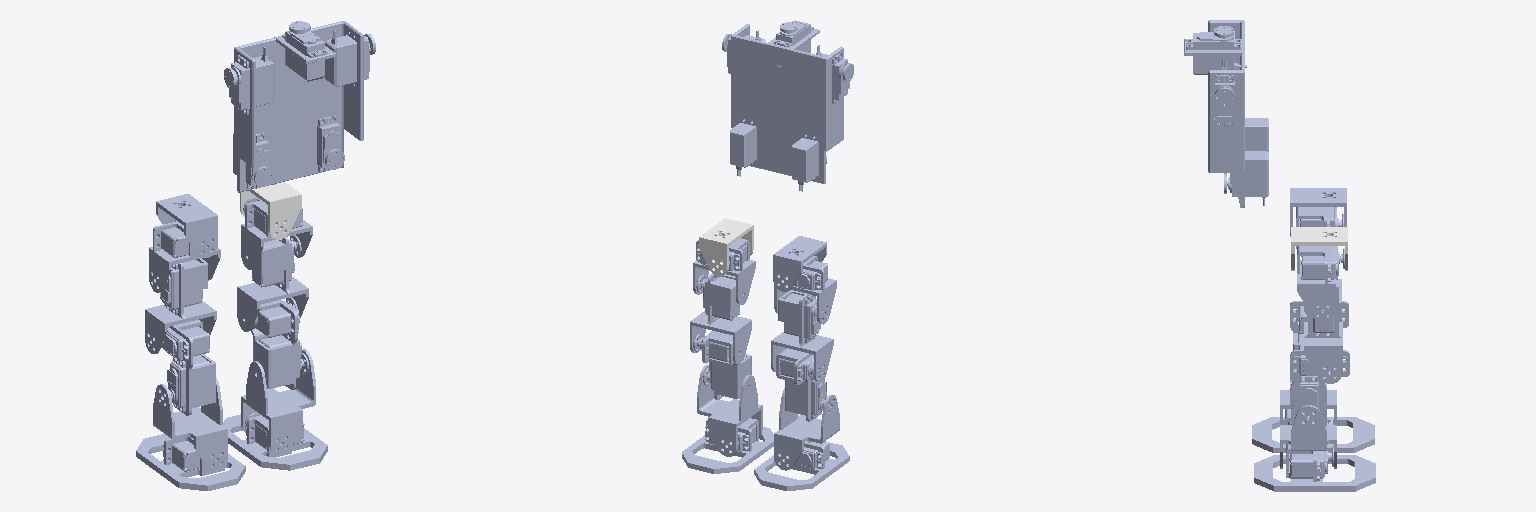
URDF robot description (test_legs_urdf):
<?xml version="1.0" encoding="utf-8" ?>
<!-- This URDF was automatically created by SolidWorks to URDF Exporter! Originally created by [author] ([email redacted]) 
     Commit Version: 1.6.0-4-g7f85cfe  Build Version: 1.6.7995.38578
     For more information, please see http://wiki.ros.org/sw_urdf_exporter -->
<robot name="test_legs_urdf">
    <!-- <link name="world"/>
    <joint name="base_joint" type="fixed">
      <parent link="world"/>
      <child link="base_link"/>
      <origin rpy="0 0 0" xyz="0.0 0.0 0.17"/>
    </joint> -->
    <link name="base_link">
        <inertial>
            <origin xyz="0.0023973 0.0026111 -0.1" rpy="0 0 0" />
            <mass value="0.37523" />
            <inertia ixx="0" ixy="0" ixz="0" iyy="0" iyz="0" izz="0" />
        </inertial>
        <visual>
            <origin xyz="0 0 0" rpy="0 0 0" />
            <geometry>
                <mesh filename="package://test_legs_urdf/meshes/base_link.STL" />
            </geometry>
            <material name="">
                <color rgba="0.79216 0.81961 0.93333 1" />
            </material>
        </visual>
        <collision>
            <origin xyz="0 0 0" rpy="0 0 0" />
            <geometry>
                <mesh filename="package://test_legs_urdf/meshes/base_link.STL" />
            </geometry>
        </collision>
    </link>
    <link name="RLeg">
        <inertial>
            <origin xyz="-0.010304 0.00087314 0.0095798" rpy="0 0 0" />
            <mass value="0.013241" />
            <inertia ixx="0" ixy="0" ixz="0" iyy="0" iyz="0" izz="0" />
        </inertial>
        <visual>
            <origin xyz="0 0 0" rpy="0 0 0" />
            <geometry>
                <mesh filename="package://test_legs_urdf/meshes/RLeg.STL" />
            </geometry>
            <material name="">
                <color rgba="0.79216 0.81961 0.93333 1" />
            </material>
        </visual>
        <collision>
            <origin xyz="0 0 0" rpy="0 0 0" />
            <geometry>
                <mesh filename="package://test_legs_urdf/meshes/RLeg.STL" />
            </geometry>
        </collision>
    </link>
    <joint name="RHip_yaw" type="revolute">
        <origin xyz="-0.042665 -0.0164 -0.077419" rpy="3.1416 0 1.5708" />
        <parent link="base_link" />
        <child link="RLeg" />
        <axis xyz="0 0 1" />
        <limit lower="-1.57" upper="1.57" effort="0.3" velocity="5" />
    </joint>
    <link name="RHip">
        <inertial>
            <origin xyz="0.0091581 -0.011371 0.0048311" rpy="0 0 0" />
            <mass value="0.049473" />
            <inertia ixx="0" ixy="0" ixz="0" iyy="0" iyz="0" izz="0" />
        </inertial>
        <visual>
            <origin xyz="0 0 0" rpy="0 0 0" />
            <geometry>
                <mesh filename="package://test_legs_urdf/meshes/RHip.STL" />
            </geometry>
            <material name="">
                <color rgba="0.79216 0.81961 0.93333 1" />
            </material>
        </visual>
        <collision>
            <origin xyz="0 0 0" rpy="0 0 0" />
            <geometry>
                <mesh filename="package://test_legs_urdf/meshes/RHip.STL" />
            </geometry>
        </collision>
    </link>
    <joint name="RHip_roll" type="revolute">
        <origin xyz="0 0.0055 0.029" rpy="0 0 -1.5708" />
        <parent link="RLeg" />
        <child link="RHip" />
        <axis xyz="0 -1 0" />
        <limit lower="-1.57" upper="1.57" effort="0.3" velocity="5" />
    </joint>
    <link name="RFemur">
        <inertial>
            <origin xyz="0.0089374 0.00056334 0.018422" rpy="0 0 0" />
            <mass value="0.053764" />
            <inertia ixx="0" ixy="0" ixz="0" iyy="0" iyz="0" izz="0" />
        </inertial>
        <visual>
            <origin xyz="0 0 0" rpy="0 0 0" />
            <geometry>
                <mesh filename="package://test_legs_urdf/meshes/RFemur.STL" />
            </geometry>
            <material name="">
                <color rgba="0.79216 0.81961 0.93333 1" />
            </material>
        </visual>
        <collision>
            <origin xyz="0 0 0" rpy="0 0 0" />
            <geometry>
                <mesh filename="package://test_legs_urdf/meshes/RFemur.STL" />
            </geometry>
        </collision>
    </link>
    <joint name="RHip_pitch" type="revolute">
        <origin xyz="0 -0.0066192 0.039" rpy="0 0 0" />
        <parent link="RHip" />
        <child link="RFemur" />
        <axis xyz="-1 0 0" />
        <limit lower="-1.57" upper="1.57" effort="0.3" velocity="5" />
    </joint>
    <link name="RTibia">
        <inertial>
            <origin xyz="-0.01514 -0.021484 -0.0081987" rpy="0 0 0" />
            <mass value="0.081897" />
            <inertia ixx="0" ixy="0" ixz="0" iyy="0" iyz="0" izz="0" />
        </inertial>
        <visual>
            <origin xyz="0 0 0" rpy="0 0 0" />
            <geometry>
                <mesh filename="package://test_legs_urdf/meshes/RTibia.STL" />
            </geometry>
            <material name="">
                <color rgba="0.79216 0.81961 0.93333 1" />
            </material>
        </visual>
        <collision>
            <origin xyz="0 0 0" rpy="0 0 0" />
            <geometry>
                <mesh filename="package://test_legs_urdf/meshes/RTibia.STL" />
            </geometry>
        </collision>
    </link>
    <joint name="RKnee_pitch" type="revolute">
        <origin xyz="0 0.00725 0.0664" rpy="-1.5708 0 1.5708" />
        <parent link="RFemur" />
        <child link="RTibia" />
        <axis xyz="0 0 1" />
        <limit lower="-1.57" upper="1.57" effort="0.3" velocity="5" />
    </joint>
    <link name="RAnkle">
        <inertial>
            <origin xyz="2.1083E-11 -0.0065876 0.03259" rpy="0 0 0" />
            <mass value="0.024453" />
            <inertia ixx="0" ixy="0" ixz="0" iyy="0" iyz="0" izz="0" />
        </inertial>
        <visual>
            <origin xyz="0 0 0" rpy="0 0 0" />
            <geometry>
                <mesh filename="package://test_legs_urdf/meshes/RAnkle.STL" />
            </geometry>
            <material name="">
                <color rgba="0.79216 0.81961 0.93333 1" />
            </material>
        </visual>
        <collision>
            <origin xyz="0 0 0" rpy="0 0 0" />
            <geometry>
                <mesh filename="package://test_legs_urdf/meshes/RAnkle.STL" />
            </geometry>
        </collision>
    </link>
    <joint name="RAnkle_pitch" type="revolute">
        <origin xyz="-0.0209 -0.04901 0" rpy="1.5708 0 0" />
        <parent link="RTibia" />
        <child link="RAnkle" />
        <axis xyz="0 1 0" />
        <limit lower="-1.57" upper="1.57" effort="0.3" velocity="5" />
    </joint>
    <link name="RFoot">
        <inertial>
            <origin xyz="0.0 0.01 0.005" rpy="0 0 0" />
            <mass value="0.068473" />
            <inertia ixx="0" ixy="0" ixz="0" iyy="0" iyz="0" izz="0" />
        </inertial>
        <visual>
            <origin xyz="-0.125 0 0.01" rpy="0 0 0" />
            <geometry>
                <mesh filename="package://test_legs_urdf/meshes/RFoot.STL" />
            </geometry>
            <material name="">
                <color rgba="0.79216 0.81961 0.93333 1" />
            </material>
        </visual>
        <collision>
            <origin xyz="-0.125 0 0.01" rpy="0 0 0" />
            <geometry>
                <mesh filename="package://test_legs_urdf/meshes/RFoot.STL" />
            </geometry>
        </collision>
    </link>
    <joint name="RAnkle_roll" type="revolute">
        <origin xyz="0.0 0.0051692 0.0626" rpy="0 0 3.1416" />
        <parent link="RAnkle" />
        <child link="RFoot" />
        <axis xyz="1 0 0" />
        <limit lower="-1.57" upper="1.57" effort="0.3" velocity="5" />
    </joint>
    <link name="LLeg">
        <inertial>
            <origin xyz="0 0 0" rpy="0 0 0" />
            <mass value="0.013241" />
            <inertia ixx="0" ixy="0" ixz="0" iyy="0" iyz="0" izz="0" />
        </inertial>
        <visual>
            <origin xyz="0 0 0" rpy="0 0 0" />
            <geometry>
                <mesh filename="package://test_legs_urdf/meshes/LLeg.STL" />
            </geometry>
            <material name="">
                <color rgba="1 1 1 1" />
            </material>
        </visual>
        <collision>
            <origin xyz="0 0 0" rpy="0 0 0" />
            <geometry>
                <mesh filename="package://test_legs_urdf/meshes/LLeg.STL" />
            </geometry>
        </collision>
    </link>
    <joint name="LHip_yaw" type="revolute">
        <origin xyz="0.048335 -0.0153 -0.077419" rpy="3.1416 0 -1.5708" />
        <parent link="base_link" />
        <child link="LLeg" />
        <axis xyz="0 0 1" />
        <limit lower="-1.57" upper="1.57" effort="0.3" velocity="5" />
    </joint>
    <link name="LHip">
        <inertial>
            <origin xyz="-0.0048311 0.0090773 -0.011371" rpy="0 0 0" />
            <mass value="0.049473" />
            <inertia ixx="0" ixy="0" ixz="0" iyy="0" iyz="0" izz="0" />
        </inertial>
        <visual>
            <origin xyz="0 0 0" rpy="0 0 0" />
            <geometry>
                <mesh filename="package://test_legs_urdf/meshes/LHip.STL" />
            </geometry>
            <material name="">
                <color rgba="0.79216 0.81961 0.93333 1" />
            </material>
        </visual>
        <collision>
            <origin xyz="0 0 0" rpy="0 0 0" />
            <geometry>
                <mesh filename="package://test_legs_urdf/meshes/LHip.STL" />
            </geometry>
        </collision>
    </link>
    <joint name="LHip_roll" type="revolute">
        <origin xyz="0 0.0055 0.029" rpy="3.1416 1.5708 0" />
        <parent link="LLeg" />
        <child link="LHip" />
        <axis xyz="0 0 -1" />
        <limit lower="-1.57" upper="1.57" effort="0.3" velocity="5" />
    </joint>
    <link name="LFemur">
        <inertial>
            <origin xyz="-0.00033744 -0.018648 -0.0087374" rpy="0 0 0" />
            <mass value="0.053764" />
            <inertia ixx="0" ixy="0" ixz="0" iyy="0" iyz="0" izz="0" />
        </inertial>
        <visual>
            <origin xyz="0 0 0" rpy="0 0 0" />
            <geometry>
                <mesh filename="package://test_legs_urdf/meshes/LFemur.STL" />
            </geometry>
            <material name="">
                <color rgba="0.79216 0.81961 0.93333 1" />
            </material>
        </visual>
        <collision>
            <origin xyz="0 0 0" rpy="0 0 0" />
            <geometry>
                <mesh filename="package://test_legs_urdf/meshes/LFemur.STL" />
            </geometry>
        </collision>
    </link>
    <joint name="LHip_pitch" type="revolute">
        <origin xyz="-0.039 0 -0.0066192" rpy="1.5708 1.5708 0" />
        <parent link="LHip" />
        <child link="LFemur" />
        <axis xyz="0 0 1" />
        <limit lower="-1.57" upper="1.57" effort="0.3" velocity="5" />
    </joint>
    <link name="LTibia">
        <inertial>
            <origin xyz="-0.021252 0.015102 0.0079987" rpy="0 0 0" />
            <mass value="0.081897" />
            <inertia ixx="0" ixy="0" ixz="0" iyy="0" iyz="0" izz="0" />
        </inertial>
        <visual>
            <origin xyz="0 0 0" rpy="0 0 0" />
            <geometry>
                <mesh filename="package://test_legs_urdf/meshes/LTibia.STL" />
            </geometry>
            <material name="">
                <color rgba="0.79216 0.81961 0.93333 1" />
            </material>
        </visual>
        <collision>
            <origin xyz="0 0 0" rpy="0 0 0" />
            <geometry>
                <mesh filename="package://test_legs_urdf/meshes/LTibia.STL" />
            </geometry>
        </collision>
    </link>
    <joint name="LKnee_pitch" type="revolute">
        <origin xyz="-0.00675 -0.0669 0" rpy="-3.1416 0 1.5708" />
        <parent link="LFemur" />
        <child link="LTibia" />
        <axis xyz="0 0 -1" />
        <limit lower="-1.57" upper="1.57" effort="0.3" velocity="5" />
    </joint>
    <link name="LAnkle">
        <inertial>
            <origin xyz="-2.1083E-11 -0.0063876 0.03259" rpy="0 0 0" />
            <mass value="0.024453" />
            <inertia ixx="0" ixy="0" ixz="0" iyy="0" iyz="0" izz="0" />
        </inertial>
        <visual>
            <origin xyz="0 0 0" rpy="0 0 0" />
            <geometry>
                <mesh filename="package://test_legs_urdf/meshes/LAnkle.STL" />
            </geometry>
            <material name="">
                <color rgba="0.79216 0.81961 0.93333 1" />
            </material>
        </visual>
        <collision>
            <origin xyz="0 0 0" rpy="0 0 0" />
            <geometry>
                <mesh filename="package://test_legs_urdf/meshes/LAnkle.STL" />
            </geometry>
        </collision>
    </link>
    <joint name="LAnkle_pitch" type="revolute">
        <origin xyz="-0.04856 0.02095 0" rpy="-1.5708 0 1.5708" />
        <parent link="LTibia" />
        <child link="LAnkle" />
        <axis xyz="0 1 0" />
        <limit lower="-1.57" upper="1.57" effort="0.3" velocity="5" />
    </joint>
    <link name="LFoot">
        <inertial>
            <origin xyz="0.00088259 0.0091453 0.0054704" rpy="0 0 0" />
            <mass value="0.068473" />
            <inertia ixx="0" ixy="0" ixz="0" iyy="0" iyz="0" izz="0" />
        </inertial>
        <visual>
            <origin xyz="0 0 0" rpy="0 0 0" />
            <geometry>
                <mesh filename="package://test_legs_urdf/meshes/LFoot.STL" />
            </geometry>
            <material name="">
                <color rgba="0.79216 0.81961 0.93333 1" />
            </material>
        </visual>
        <collision>
            <origin xyz="0 0 0" rpy="0 0 0" />
            <geometry>
                <mesh filename="package://test_legs_urdf/meshes/LFoot.STL" />
            </geometry>
        </collision>
    </link>
    <joint name="LAnkle_roll" type="revolute">
        <origin xyz="0 0.0049192 0.062486" rpy="0 0 3.1416" />
        <parent link="LAnkle" />
        <child link="LFoot" />
        <axis xyz="-1 0 0" />
        <limit lower="-1.57" upper="1.57" effort="0.3" velocity="5" />
    </joint>
    <!-- 
  Adding actuators for every joint
   Replace the “link_n” part with the name of child link of the joint and “joint_n” with the exact joint name for which you are writing this transmission tag. 
   The transmission and actuator names can be defined anything you want. 
   But the joint name must be the exact name of the joint.
  <transmission name="link_n_trans">
  <type>transmission_interface/SimpleTransmission</type>
  <joint name="joint_n">
  <hardwareInterface>hardware_interface/PositionJointInterface</hardwareInterface></joint>
  <actuator name="link_n_motor">
  <hardwareInterface>hardware_interface/PositionJointInterface</hardwareInterface> <mechanicalReduction>1</mechanicalReduction>
  </actuator>
  </transmission>
     -->
    <transmission name="LLeg_trans">
        <type>transmission_interface/SimpleTransmission</type>
        <joint name="LHip_yaw">
            <hardwareInterface>hardware_interface/PositionJointInterface</hardwareInterface>
        </joint>
        <actuator name="LHip_yaw_motor">
            <hardwareInterface>hardware_interface/PositionJointInterface</hardwareInterface>
            <mechanicalReduction>1</mechanicalReduction>
        </actuator>
    </transmission>
    <transmission name="LHip_trans">
        <type>transmission_interface/SimpleTransmission</type>
        <joint name="LHip_roll">
            <hardwareInterface>hardware_interface/PositionJointInterface</hardwareInterface>
        </joint>
        <actuator name="LHip_roll_motor">
            <hardwareInterface>hardware_interface/PositionJointInterface</hardwareInterface>
            <mechanicalReduction>1</mechanicalReduction>
        </actuator>
    </transmission>
    <transmission name="LFemur_trans">
        <type>transmission_interface/SimpleTransmission</type>
        <joint name="LHip_pitch">
            <hardwareInterface>hardware_interface/PositionJointInterface</hardwareInterface>
        </joint>
        <actuator name="LHip_pitch_motor">
            <hardwareInterface>hardware_interface/PositionJointInterface</hardwareInterface>
            <mechanicalReduction>1</mechanicalReduction>
        </actuator>
    </transmission>
    <transmission name="LTibia_trans">
        <type>transmission_interface/SimpleTransmission</type>
        <joint name="LKnee_pitch">
            <hardwareInterface>hardware_interface/PositionJointInterface</hardwareInterface>
        </joint>
        <actuator name="LKnee_pitch_motor">
            <hardwareInterface>hardware_interface/PositionJointInterface</hardwareInterface>
            <mechanicalReduction>1</mechanicalReduction>
        </actuator>
    </transmission>
    <transmission name="LAnkle_trans">
        <type>transmission_interface/SimpleTransmission</type>
        <joint name="LAnkle_pitch">
            <hardwareInterface>hardware_interface/PositionJointInterface</hardwareInterface>
        </joint>
        <actuator name="LAnkle_pitch_motor">
            <hardwareInterface>hardware_interface/PositionJointInterface</hardwareInterface>
            <mechanicalReduction>1</mechanicalReduction>
        </actuator>
    </transmission>
    <transmission name="LFoot_trans">
        <type>transmission_interface/SimpleTransmission</type>
        <joint name="LAnkle_roll">
            <hardwareInterface>hardware_interface/PositionJointInterface</hardwareInterface>
        </joint>
        <actuator name="LAnkle_roll_motor">
            <hardwareInterface>hardware_interface/PositionJointInterface</hardwareInterface>
            <mechanicalReduction>1</mechanicalReduction>
        </actuator>
    </transmission>
    <transmission name="RLeg_trans">
        <type>transmission_interface/SimpleTransmission</type>
        <joint name="RHip_yaw">
            <hardwareInterface>hardware_interface/PositionJointInterface</hardwareInterface>
        </joint>
        <actuator name="RHip_yaw_motor">
            <hardwareInterface>hardware_interface/PositionJointInterface</hardwareInterface>
            <mechanicalReduction>1</mechanicalReduction>
        </actuator>
    </transmission>
    <transmission name="RHip_trans">
        <type>transmission_interface/SimpleTransmission</type>
        <joint name="RHip_roll">
            <hardwareInterface>hardware_interface/PositionJointInterface</hardwareInterface>
        </joint>
        <actuator name="RHip_roll_motor">
            <hardwareInterface>hardware_interface/PositionJointInterface</hardwareInterface>
            <mechanicalReduction>1</mechanicalReduction>
        </actuator>
    </transmission>
    <transmission name="RFemur_trans">
        <type>transmission_interface/SimpleTransmission</type>
        <joint name="RHip_pitch">
            <hardwareInterface>hardware_interface/PositionJointInterface</hardwareInterface>
        </joint>
        <actuator name="RHip_pitch_motor">
            <hardwareInterface>hardware_interface/PositionJointInterface</hardwareInterface>
            <mechanicalReduction>1</mechanicalReduction>
        </actuator>
    </transmission>
    <transmission name="RTibia_trans">
        <type>transmission_interface/SimpleTransmission</type>
        <joint name="RKnee_pitch">
            <hardwareInterface>hardware_interface/PositionJointInterface</hardwareInterface>
        </joint>
        <actuator name="RKnee_pitch_motor">
            <hardwareInterface>hardware_interface/PositionJointInterface</hardwareInterface>
            <mechanicalReduction>1</mechanicalReduction>
        </actuator>
    </transmission>
    <transmission name="RAnkle_trans">
        <type>transmission_interface/SimpleTransmission</type>
        <joint name="RAnkle_pitch">
            <hardwareInterface>hardware_interface/PositionJointInterface</hardwareInterface>
        </joint>
        <actuator name="RAnkle_pitch_motor">
            <hardwareInterface>hardware_interface/PositionJointInterface</hardwareInterface>
            <mechanicalReduction>1</mechanicalReduction>
        </actuator>
    </transmission>
    <transmission name="RFoot_trans">
        <type>transmission_interface/SimpleTransmission</type>
        <joint name="RAnkle_roll">
            <hardwareInterface>hardware_interface/PositionJointInterface</hardwareInterface>
        </joint>
        <actuator name="RAnkle_roll_motor">
            <hardwareInterface>hardware_interface/PositionJointInterface</hardwareInterface>
            <mechanicalReduction>1</mechanicalReduction>
        </actuator>
    </transmission>
    <!--Add Gazebo Controller
  After the last transmission tag, add a gazebo controller tag as given below
  <gazebo>
  <plugin name="control"
  filename="libgazebo_ros_control.so">
  <robotNamespace>/</robotNamespace>
  </plugin>
  </gazebo>
  -->
    <gazebo>
        <plugin name="control" filename="libgazebo_ros_control.so">
            <robotNamespace>/</robotNamespace>
        </plugin>
        <plugin name="gazebo_ros_control" filename="libgazebo_ros_control.so">
            <robotNamespace>/</robotNamespace>
        </plugin>
    </gazebo>
    <!-- Add Self Collision tags.
  Similar to transmission tags, create the self-collision tags for each movable link in URDF. 
  <gazebo reference="link_n">
  <selfCollide>true</selfCollide>
  </gazebo>

  Note: Change “link_n” with the name of the link.

  -->
    <gazebo reference="LLeg">
        <selfCollide>true</selfCollide>
    </gazebo>
    <gazebo reference="LHip">
        <selfCollide>true</selfCollide>
    </gazebo>
    <gazebo reference="LFemur">
        <selfCollide>true</selfCollide>
    </gazebo>
    <gazebo reference="LTibia">
        <selfCollide>true</selfCollide>
    </gazebo>
    <gazebo reference="LAnkle">
        <selfCollide>true</selfCollide>
    </gazebo>
    <gazebo reference="LFoot">
        <selfCollide>true</selfCollide>
    </gazebo>
    <gazebo reference="RLeg">
        <selfCollide>true</selfCollide>
    </gazebo>
    <gazebo reference="RHip">
        <selfCollide>true</selfCollide>
    </gazebo>
    <gazebo reference="RFemur">
        <selfCollide>true</selfCollide>
    </gazebo>
    <gazebo reference="RTibia">
        <selfCollide>true</selfCollide>
    </gazebo>
    <gazebo reference="RAnkle">
        <selfCollide>true</selfCollide>
    </gazebo>
    <gazebo reference="RFoot">
        <selfCollide>true</selfCollide>
    </gazebo>
</robot>

--- What the picture shows (computed from the rendered views, not written in the file) ---
Views: 3 orthographic renders of the robot side by side, from view 1: azimuth 30°, elevation 25°; view 2: azimuth 150°, elevation 25°; view 3: azimuth 270°, elevation 25°.
Robot: test_legs_urdf — 13 links, 12 joints (12 revolute); root link base_link; default pose: all joints at 0.
Visible links, largest first — view 1: base_link, LAnkle, RTibia, LTibia, RFemur, LFemur, RAnkle, RFoot, LFoot, RHip, RLeg, LHip (+1 smaller); view 2: base_link, RFemur, LFemur, LAnkle, RAnkle, RTibia, LTibia, RFoot, LFoot, LLeg, RLeg, RHip (+1 smaller); view 3: base_link, LFoot, LHip, LFemur, LAnkle, RFoot, LTibia, LLeg, RLeg, RHip, RTibia, RAnkle.
Boxes of the visible links, <box> form: base_link: <box>224,21,375,192</box>; LAnkle: <box>241,349,315,454</box>; RTibia: <box>161,320,215,415</box>; LTibia: <box>251,297,308,389</box>; RFemur: <box>145,258,216,353</box>; LFemur: <box>237,235,308,331</box>; RAnkle: <box>153,377,227,471</box>; RFoot: <box>136,434,245,490</box>; LFoot: <box>223,413,327,470</box>; RHip: <box>149,219,220,292</box>; RLeg: <box>156,194,217,257</box>; LHip: <box>241,197,312,269</box>; base_link: <box>722,20,853,191</box>; RFemur: <box>771,290,833,382</box>; LFemur: <box>690,273,751,363</box>; LAnkle: <box>697,365,762,456</box>; RAnkle: <box>774,388,839,470</box>; RTibia: <box>776,348,826,421</box>; LTibia: <box>693,331,751,399</box>; RFoot: <box>754,441,849,490</box>; LFoot: <box>682,418,773,473</box>; LLeg: <box>699,218,753,276</box>; RLeg: <box>773,236,826,291</box>; RHip: <box>774,256,836,324</box>; base_link: <box>1184,20,1268,207</box>; LFoot: <box>1254,444,1375,491</box>; LHip: <box>1297,246,1344,321</box>; LFemur: <box>1304,280,1342,383</box>; LAnkle: <box>1280,401,1336,468</box>; RFoot: <box>1252,409,1374,452</box>; LTibia: <box>1290,344,1349,422</box>; LLeg: <box>1291,227,1347,270</box>; RLeg: <box>1290,188,1346,236</box>; RHip: <box>1296,207,1343,256</box>; RTibia: <box>1290,301,1348,368</box>; RAnkle: <box>1280,376,1336,424</box>.
Bounding box of the posed robot: 0.1798 × 0.1884 × 0.4721 m (x, y, z).
13 mesh visuals loaded from 13 distinct referenced files (13 binary STL).